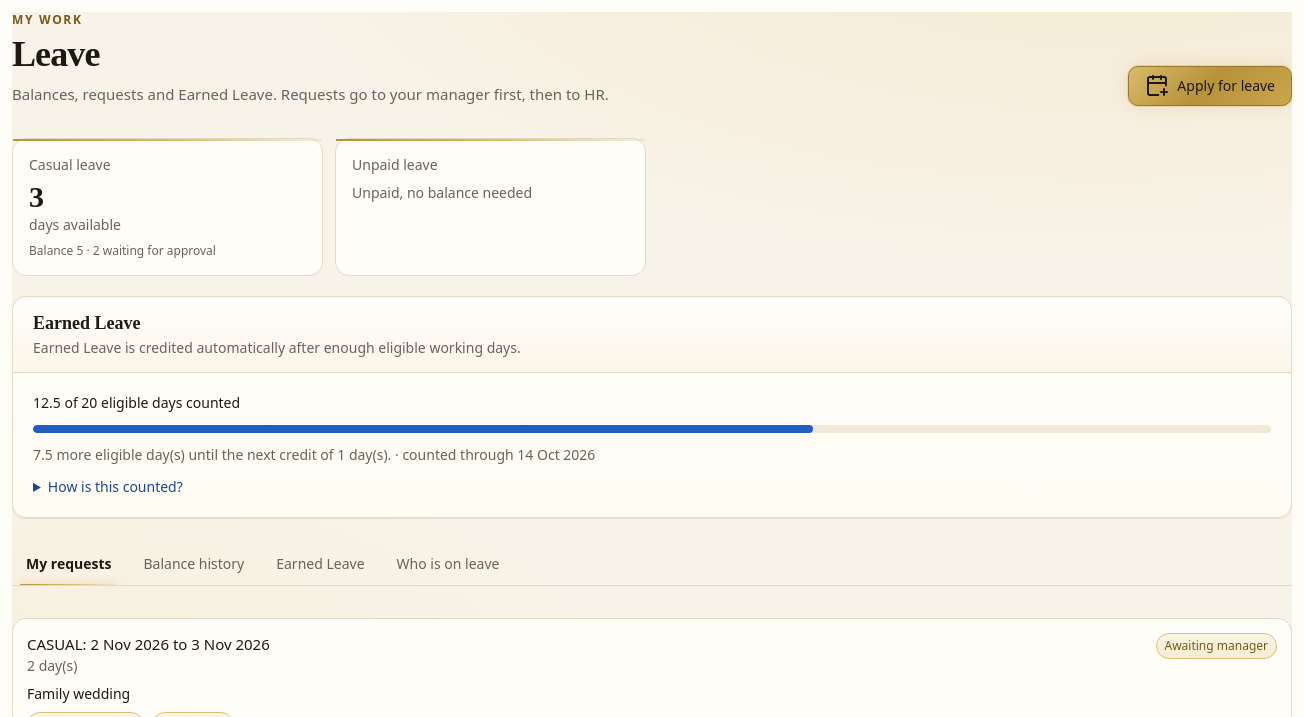
Test: LeavePage › explains how Earned Leave is counted, day by day
This screenshot has width=1304, height=717.
What coordinates should you click on to do the following:
click the heading "How is this counted?"
I would click on:
 (115, 486)
Its box is x1=48 y1=477 x2=183 y2=496.
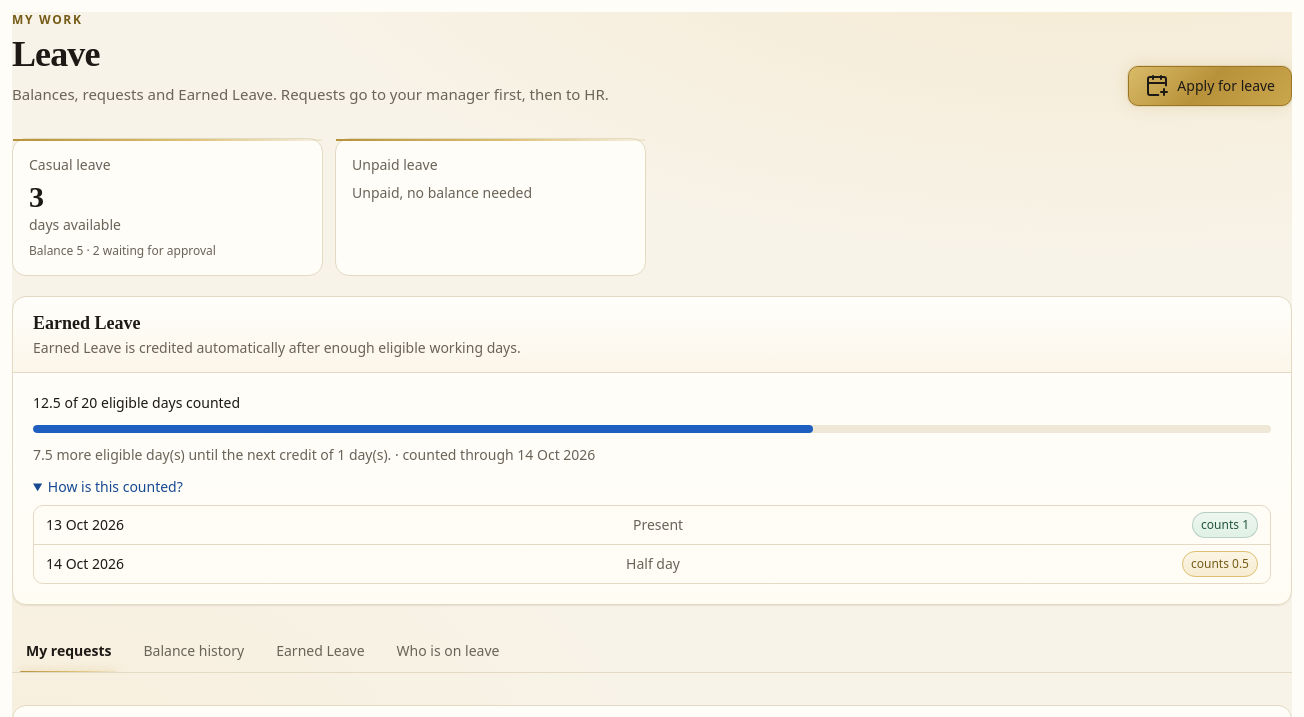
Expected: the text "Present" is shown, x1=633 y1=515 x2=683 y2=535
Expected: the text "Half day" is shown, x1=626 y1=554 x2=680 y2=574
Expected: the text "counts 0.5" is shown, x1=1182 y1=551 x2=1258 y2=577
